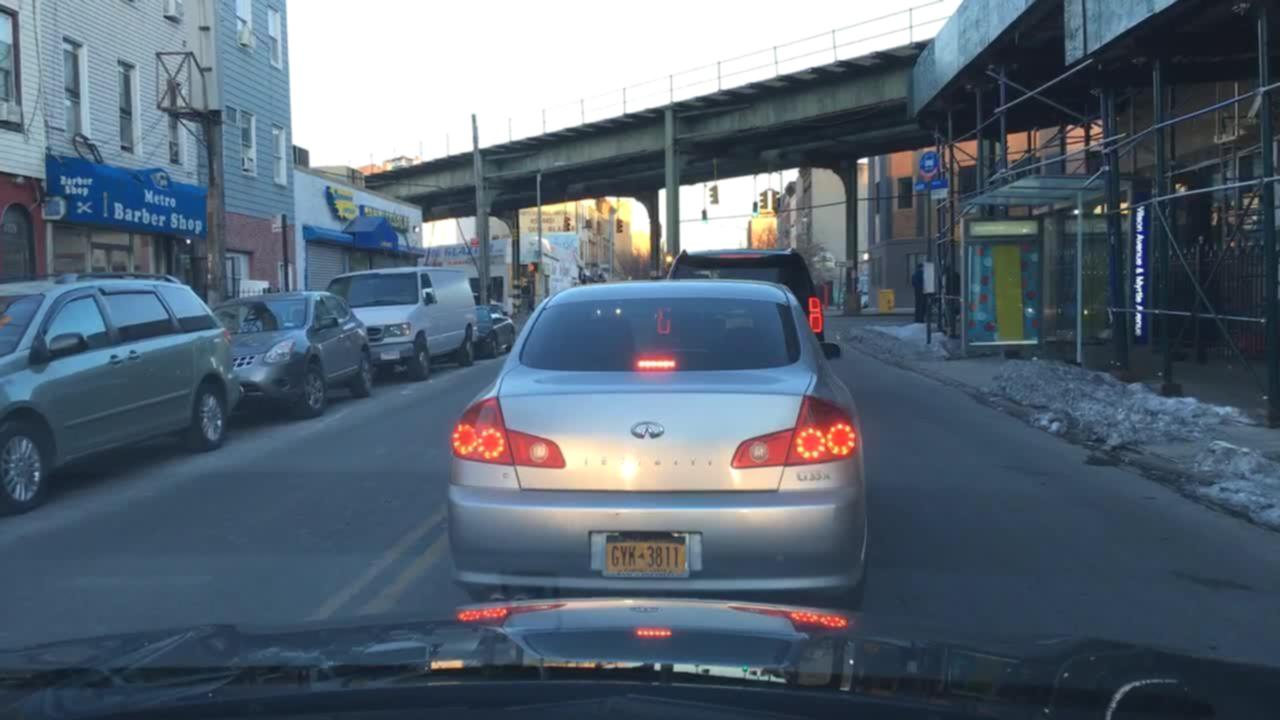Infiniti: (624, 408, 671, 451)
